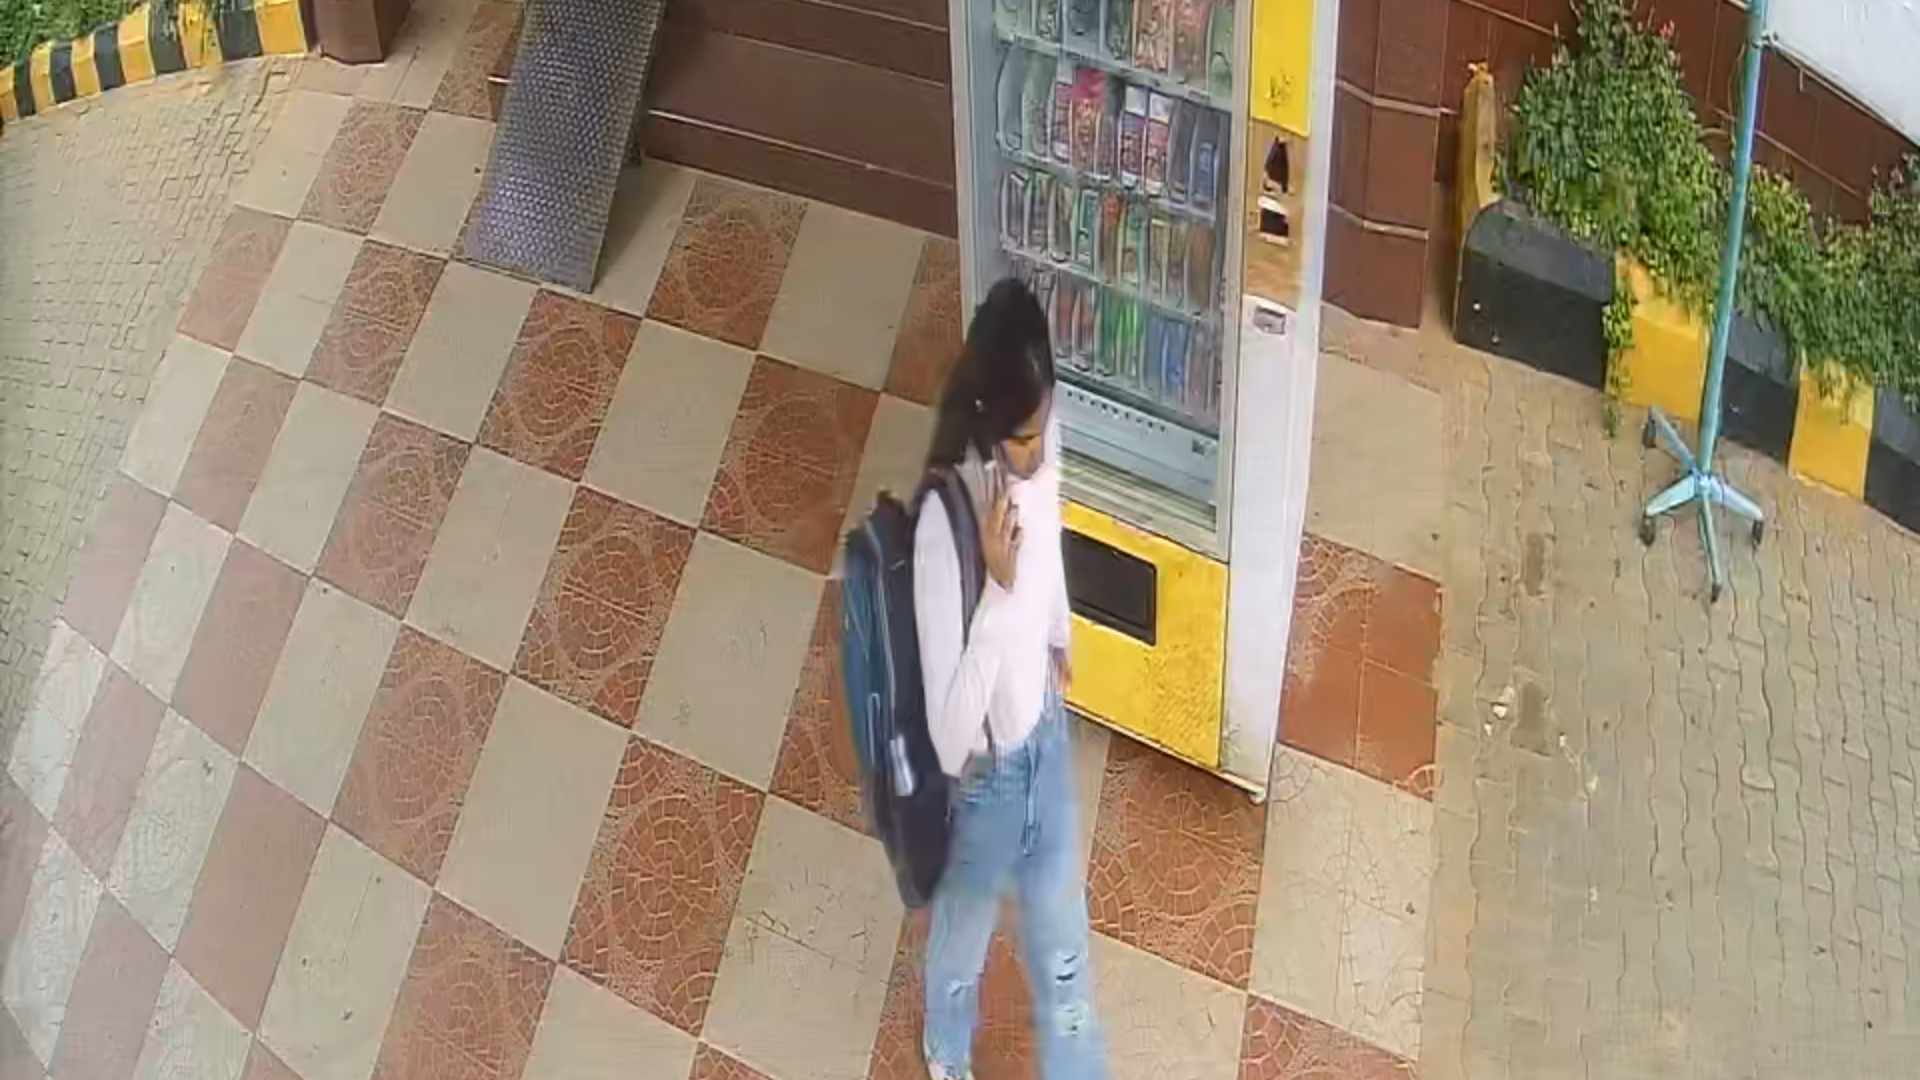intruder: (884, 264, 1112, 1080)
